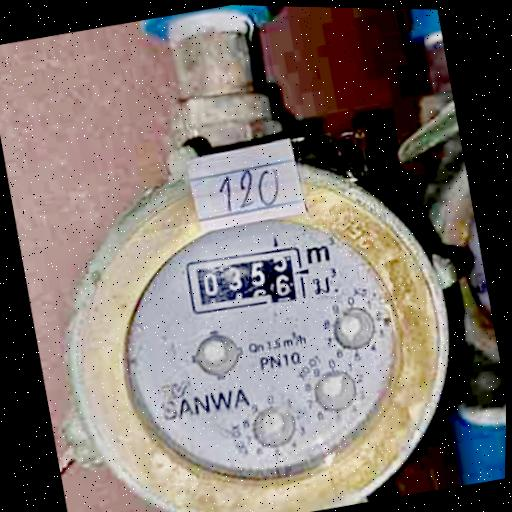0: (195, 265, 227, 306)
3: (217, 261, 250, 303)
5: (240, 257, 272, 299)
6: (263, 254, 298, 304)
border_water_meter_number: (182, 239, 309, 321)
